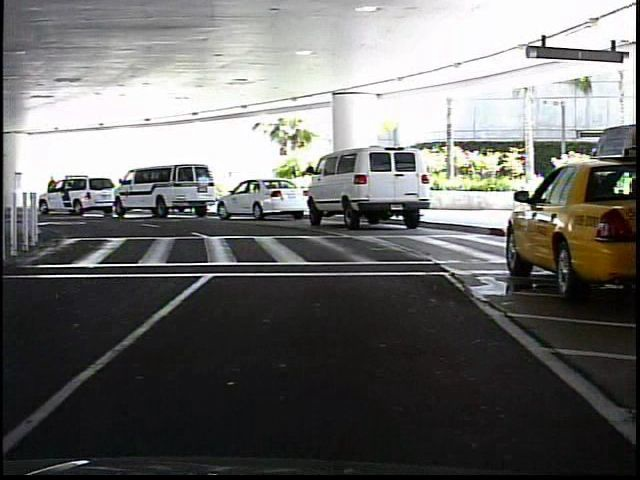person: (45, 173, 61, 210)
